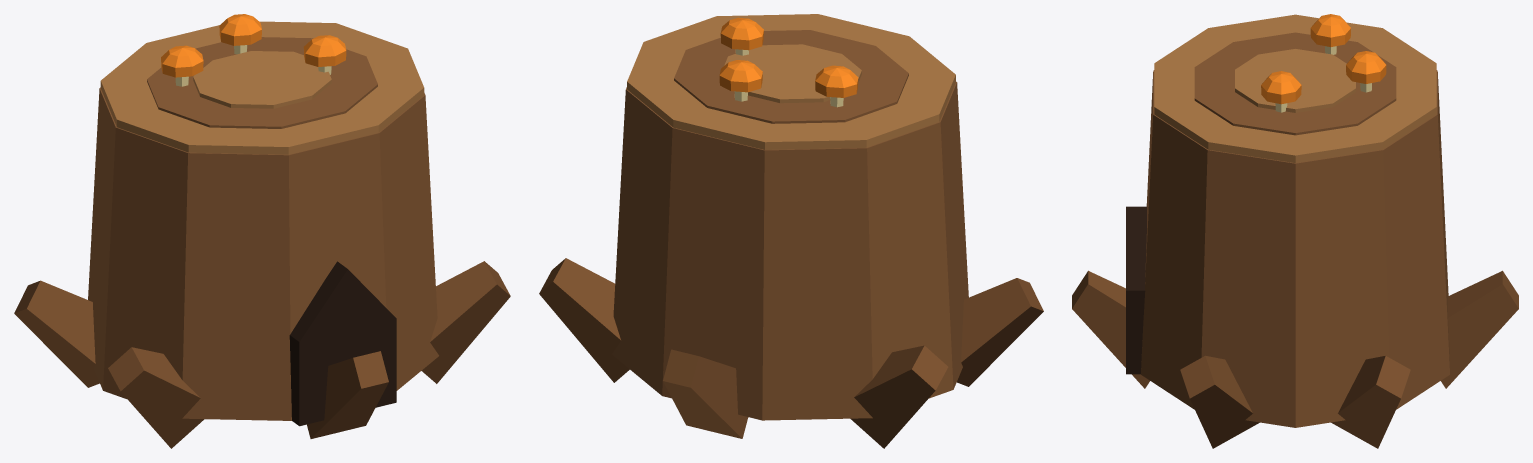
File: env_r10_hollow_stump.glb
The picture shows the model from 3 angles, left to right: view 1: azimuth 30°, elevation 25°; view 2: azimuth 150°, elevation 25°; view 3: azimuth 270°, elevation 25°; orthographic projection. The views are drawn at different scales.
Parts seen in each view (by area): view 1: env_r10_hollow_stump; view 2: env_r10_hollow_stump; view 3: env_r10_hollow_stump.
Boxes of the visible parts, bbox=[...] form: env_r10_hollow_stump: bbox=[14, 14, 510, 448]; env_r10_hollow_stump: bbox=[539, 14, 1043, 448]; env_r10_hollow_stump: bbox=[1072, 14, 1518, 448].
Bounding box in the file's own units: 4.8 × 4 × 4.8.
1 material, 1 textured.
